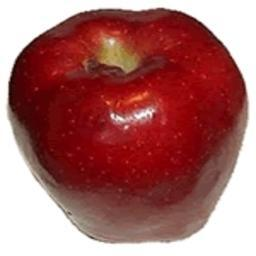apple: (8, 7, 249, 244)
